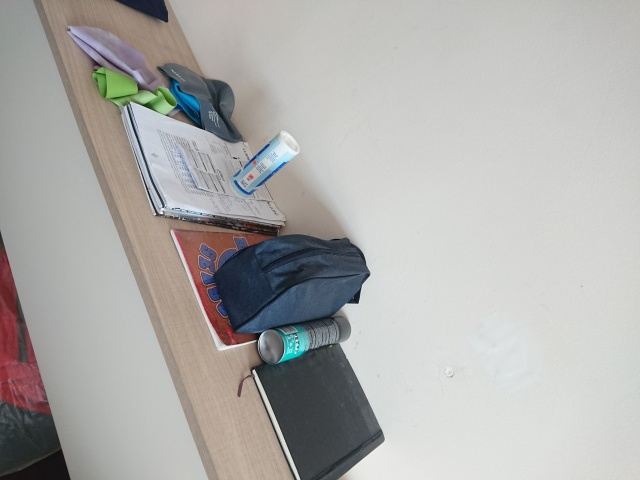Solana Pag Fine Sea Salt 250g: (226, 128, 303, 201)
